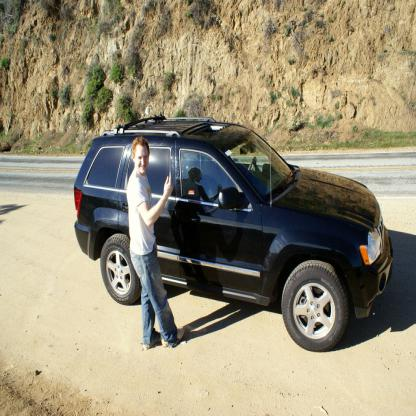Car: (74, 117, 393, 352)
